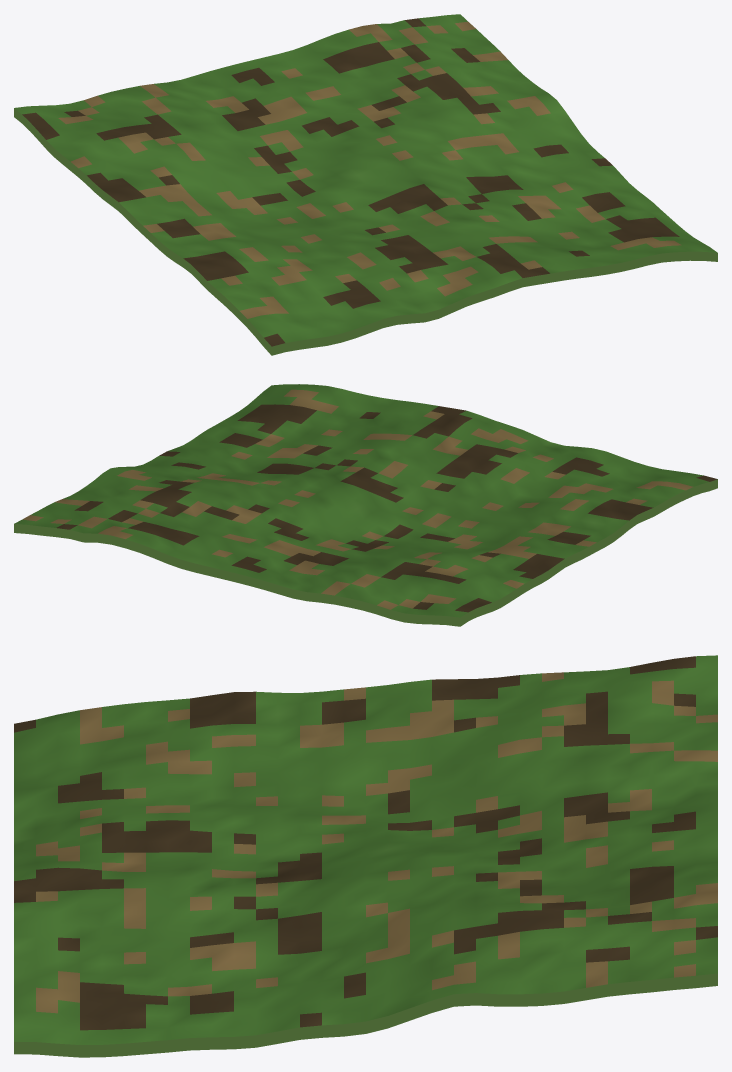
Rendered from chunk_0_3_lod1.glb.
3 views of the same model, one above another, from view 1: azimuth 30°, elevation 25°; view 2: azimuth 150°, elevation 25°; view 3: azimuth 270°, elevation 25° (orthographic). The views are drawn at different scales.
Parts seen in each view (by area): view 1: Surface_Grass, Surface_Mud, Surface_Dirt, Skirt; view 2: Surface_Grass, Surface_Mud, Surface_Dirt, Skirt; view 3: Surface_Grass, Surface_Mud, Surface_Dirt, Skirt.
Boxes of the visible parts, x1=… form: Surface_Grass: x1=14, y1=14, x2=717, y2=342; Surface_Mud: x1=22, y1=18, x2=679, y2=346; Surface_Dirt: x1=58, y1=21, x2=681, y2=318; Skirt: x1=14, y1=108, x2=717, y2=355; Surface_Grass: x1=14, y1=384, x2=708, y2=617; Surface_Mud: x1=56, y1=404, x2=717, y2=612; Surface_Dirt: x1=22, y1=389, x2=693, y2=609; Skirt: x1=14, y1=479, x2=717, y2=626; Surface_Grass: x1=14, y1=655, x2=717, y2=1044; Surface_Mud: x1=14, y1=656, x2=717, y2=1030; Surface_Dirt: x1=36, y1=672, x2=717, y2=1013; Skirt: x1=14, y1=973, x2=717, y2=1057.
Bounding box in the file's own units: 256 × 41.99 × 256.
